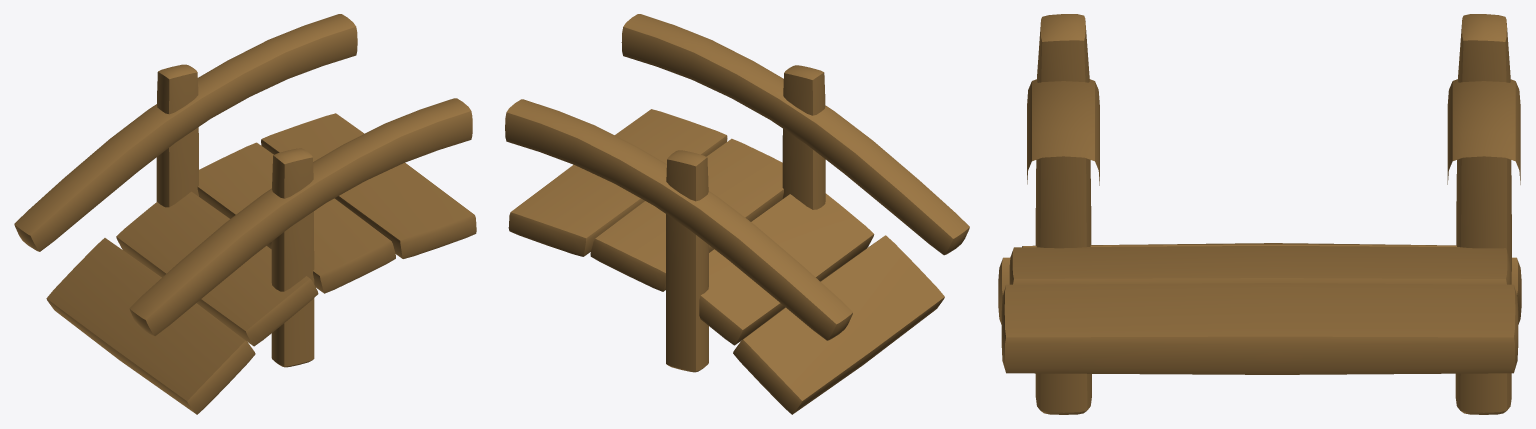
Rendered from Bridge_Modular.glb.
3 views of the same model, side by side, from view 1: azimuth 30°, elevation 25°; view 2: azimuth 150°, elevation 25°; view 3: azimuth 270°, elevation 25° (orthographic). The views are drawn at different scales.
Visible parts, largest first — view 1: Bridge_Modular; view 2: Bridge_Modular; view 3: Bridge_Modular.
Part boxes in pixels (box(x1,y1,x2,y2)): Bridge_Modular: box(14, 14, 476, 414); Bridge_Modular: box(505, 14, 969, 414); Bridge_Modular: box(998, 14, 1521, 414).
Bounding box in the file's own units: 2.95 × 2.01 × 2.24.
